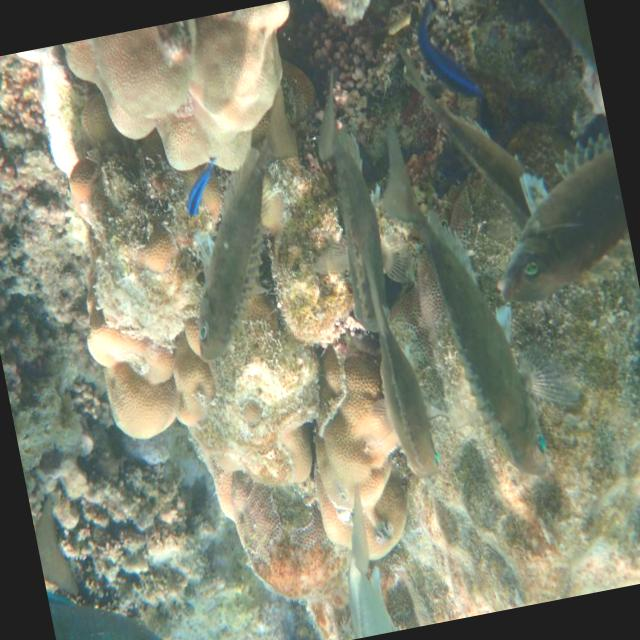Sokar Baligi: (361, 107, 572, 516), (142, 80, 346, 386)
